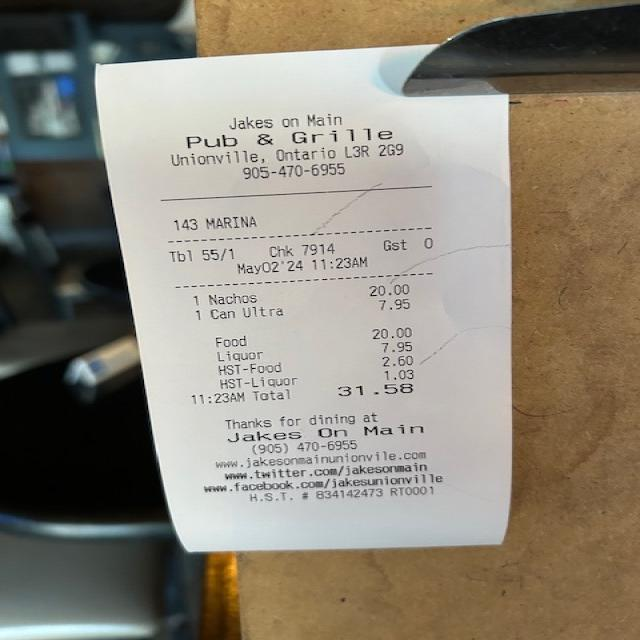item: (202, 297, 422, 322), (202, 281, 422, 305)
store_name: (178, 123, 410, 152)
total_amount: (248, 380, 427, 407)
transaction_date: (232, 255, 312, 279)
